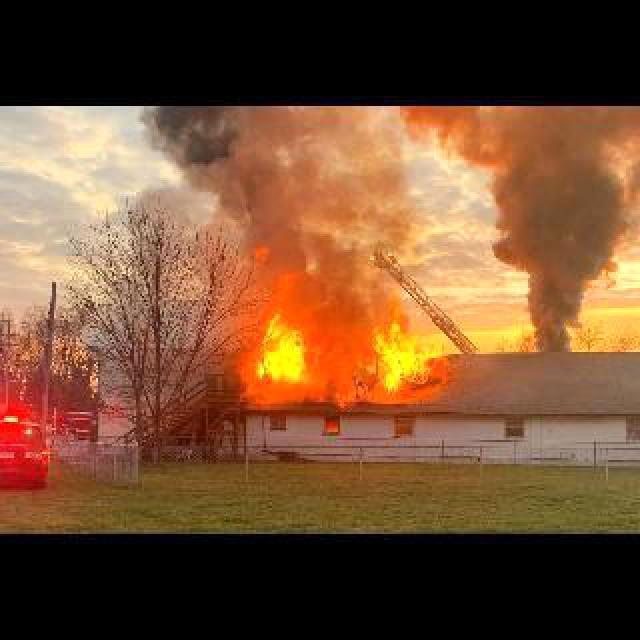Fire: (238, 268, 450, 404)
Smoke: (160, 111, 640, 266)
